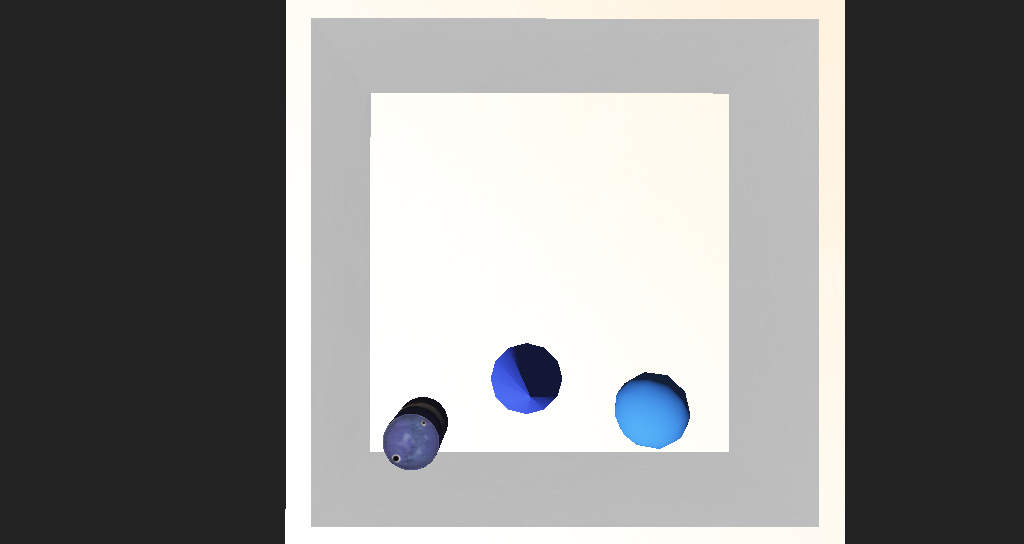cone: (364, 344, 418, 382)
cylinder: (451, 313, 519, 365)
sphere: (563, 324, 623, 372)
